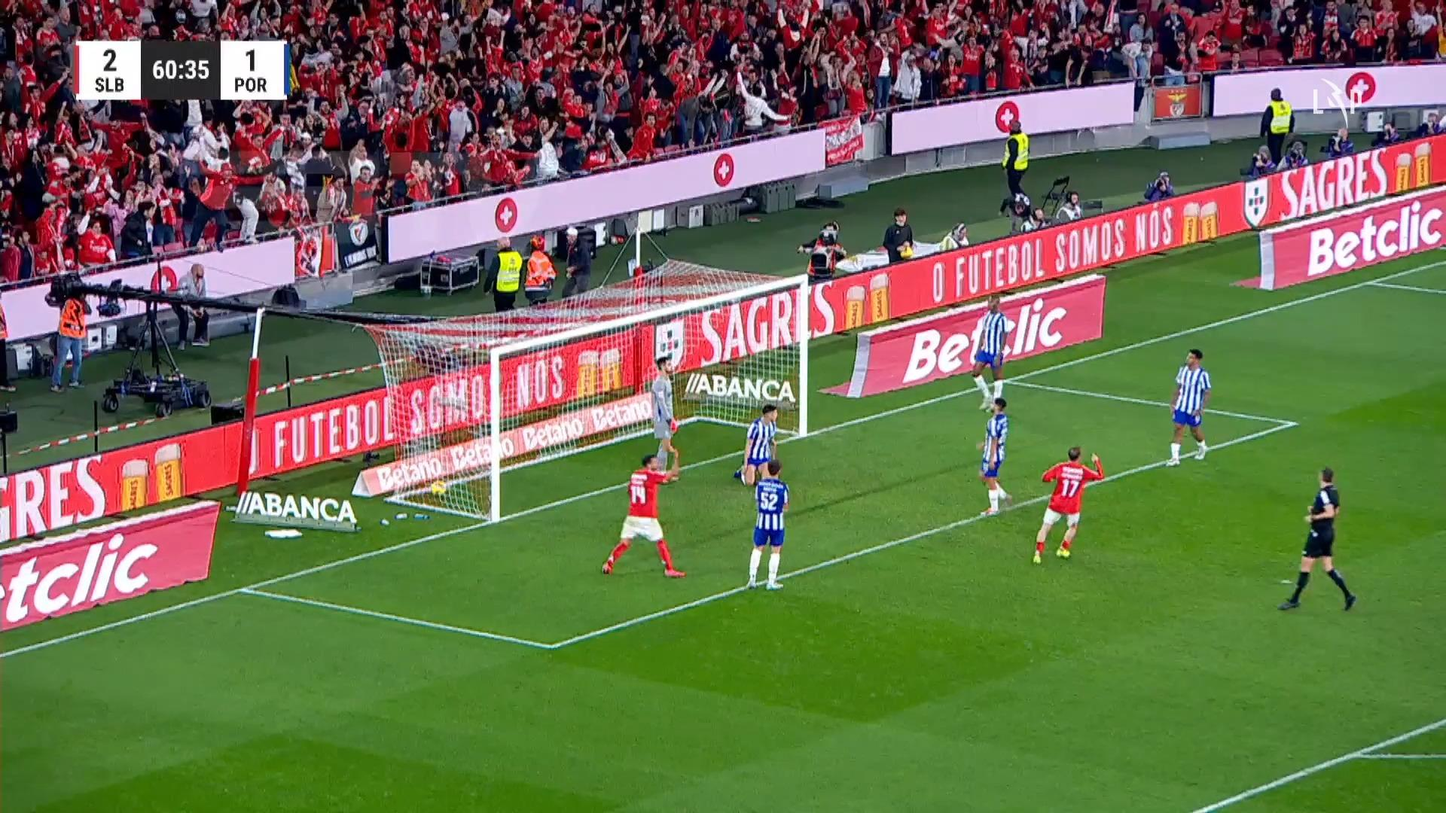ball: (430, 480, 446, 495)
goalkeeper: (649, 355, 680, 476)
player: (600, 452, 686, 578), (1031, 445, 1105, 564), (746, 458, 789, 590), (1164, 348, 1211, 466), (969, 293, 1009, 412), (977, 396, 1012, 516), (734, 403, 779, 486)
referee: (1277, 466, 1356, 611)
